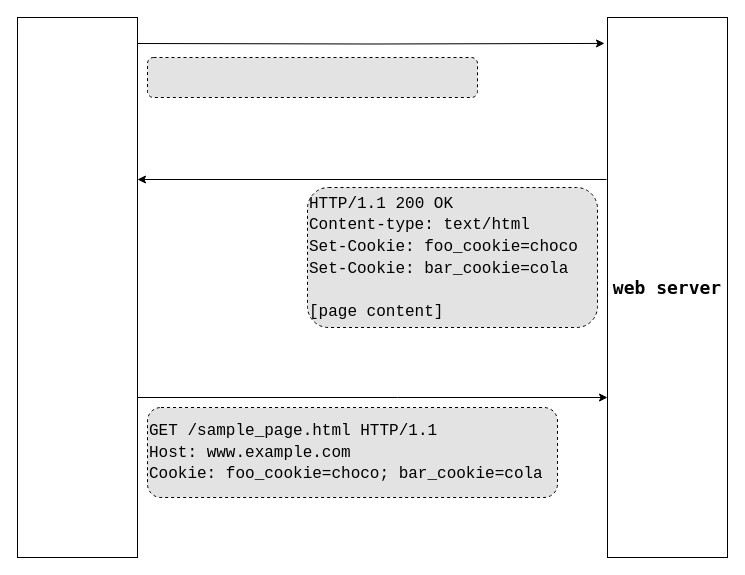
Some shapes in this 745 by 575 pixel diagram are drawn without their labels. Each missing label, with the centre of its shape:
"browser" belongs at pixel 77 287.
"GET https://www.example.com/ HTTP/1.1" belongs at pixel 312 77.
